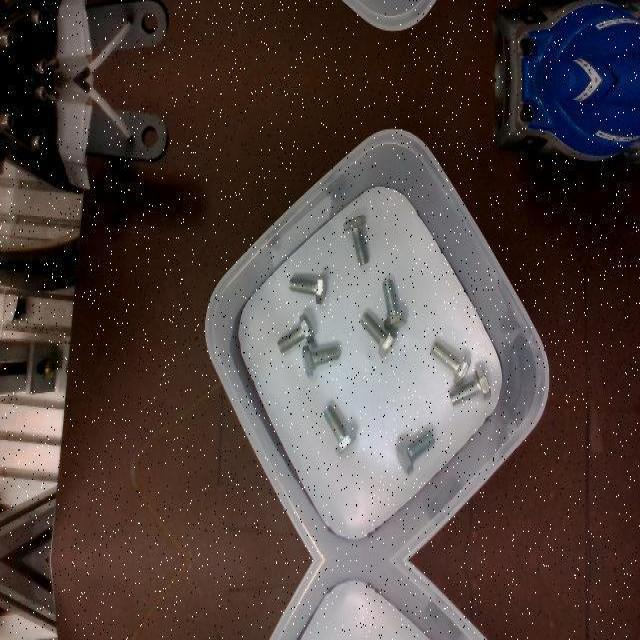screw: (430, 340, 470, 386), (396, 429, 435, 475), (322, 404, 356, 454), (359, 312, 395, 358), (449, 367, 491, 405), (276, 314, 314, 354), (381, 278, 407, 330), (343, 214, 369, 266), (302, 346, 339, 378), (289, 274, 326, 306)
